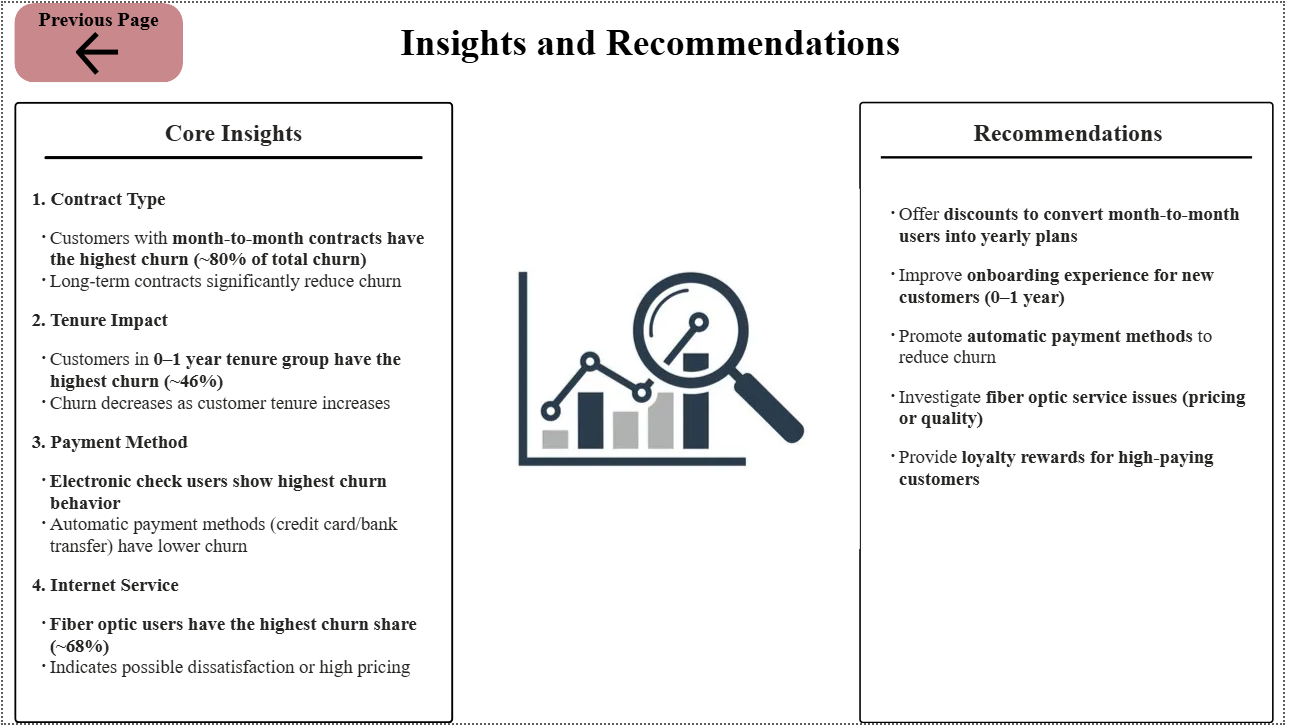

The dashboard page shown, as its layout file describes it:
{"tool":"powerbi","page":{"name":"Page 2","canvas":[1280,720],"ordinal":1},"visuals":[{"type":"shape","box":[11,98.8,439.1,621.6],"z":0},{"type":"shape","title":"Core Insights ","box":[41.2,116.6,378.7,39.8],"z":1000},{"type":"textbox","box":[23.3,180,413,529.7],"z":2000},{"type":"actionButton","box":[11,0,168.8,79.6],"z":2001},{"type":"textbox","title":"Recommendations    ","box":[856.3,98.8,414.4,621.6],"z":2002},{"type":"image","box":[459.7,156.4,396.6,419.9],"z":2003}]}

Visuals, with their boxes in screenshot pixels (x1, y1, x2, y2), scaled from the page's 1280x720 canvas onto the 1292x725 screenshot:
shape: bbox=[11, 99, 454, 724]
"Core Insights " shape: bbox=[42, 117, 424, 157]
textbox: bbox=[24, 181, 440, 715]
actionButton: bbox=[11, 0, 181, 80]
"Recommendations    " textbox: bbox=[864, 99, 1283, 724]
image: bbox=[464, 157, 864, 580]
